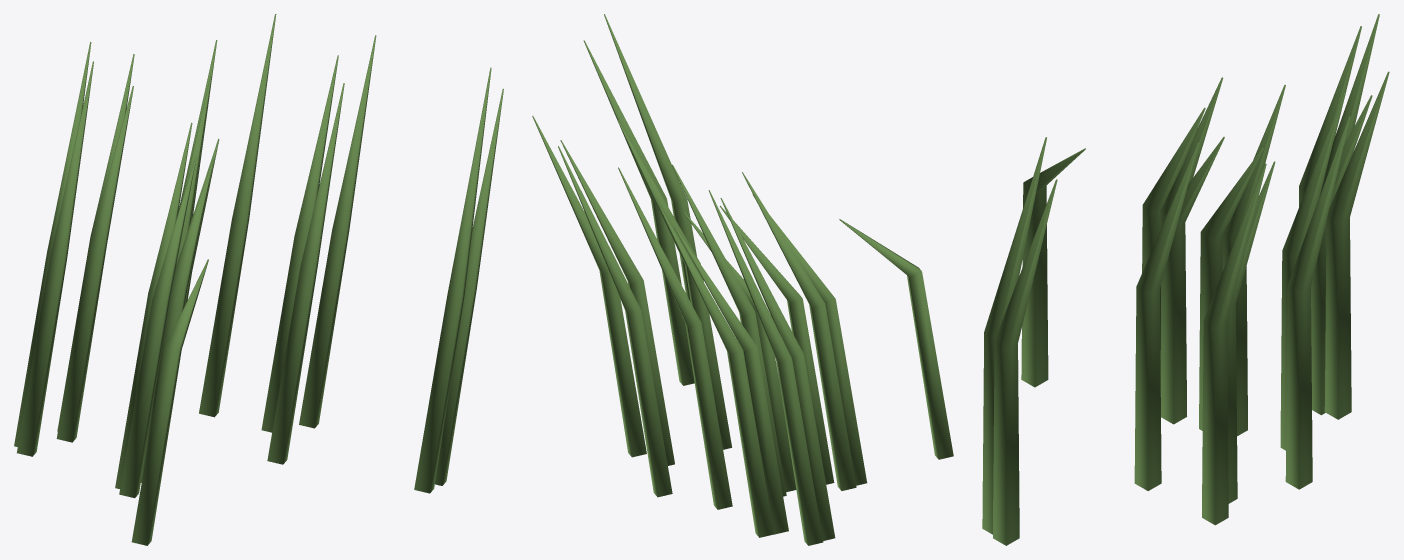
File: SM_Env_GrassTuft.fbx
3 views of the same model, side by side, from view 1: azimuth 30°, elevation 25°; view 2: azimuth 150°, elevation 25°; view 3: azimuth 270°, elevation 25° (orthographic). The views are drawn at different scales.
Visible parts, largest first — view 1: Grass_blade.004, Grass_blade.012, Grass_blade.009, Grass_blade.014, Grass_blade.005, Grass_blade.016, Grass_blade.010, Grass_blade, Grass_blade.011, Grass_blade.002, Grass_blade.007, Grass_blade.015 (+4 smaller); view 2: Grass_blade.003, Grass_blade.012, Grass_blade.006, Grass_blade.013, Grass_blade.007, Grass_blade.014, Grass_blade.016, Grass_blade, Grass_blade.009, Grass_blade.011, Grass_blade.002, Grass_blade.005 (+5 smaller); view 3: Grass_blade.012, Grass_blade.011, Grass_blade.014, Grass_blade.005, Grass_blade.013, Grass_blade.015, Grass_blade.004, Grass_blade, Grass_blade.001, Grass_blade.006, Grass_blade.008, Grass_blade.016 (+5 smaller).
Boxes of the visible parts, x1,y1,x2,y2 form: Grass_blade.004: (414,67,491,493); Grass_blade.012: (199,14,276,417); Grass_blade.009: (17,61,93,456); Grass_blade.014: (299,35,376,428); Grass_blade.005: (267,83,344,464); Grass_blade.016: (56,86,133,442); Grass_blade.010: (119,157,196,498); Grass_blade: (131,259,208,545); Grass_blade.011: (435,89,503,485); Grass_blade.002: (261,55,338,432); Grass_blade.007: (115,122,192,488); Grass_blade.015: (141,157,214,482); Grass_blade.003: (708,190,823,545); Grass_blade.012: (558,146,672,497); Grass_blade.006: (618,167,732,509); Grass_blade.013: (660,207,774,537); Grass_blade.007: (742,172,856,490); Grass_blade.014: (532,116,646,457); Grass_blade.016: (674,227,788,534); Grass_blade: (839,219,953,459); Grass_blade.009: (720,198,835,540); Grass_blade.011: (583,40,694,385); Grass_blade.002: (560,140,674,465); Grass_blade.005: (617,120,731,449); Grass_blade.012: (1285,116,1350,489); Grass_blade.011: (993,179,1057,545); Grass_blade.014: (1202,163,1266,525); Grass_blade.005: (1134,142,1199,490); Grass_blade.013: (1324,71,1389,419); Grass_blade.015: (1160,136,1224,424); Grass_blade.004: (982,137,1046,534); Grass_blade: (1021,148,1085,387); Grass_blade.001: (1222,85,1285,436); Grass_blade.006: (1280,92,1345,450); Grass_blade.008: (1199,148,1263,430); Grass_blade.016: (1311,95,1372,415).
Size of the model in its own units: 30.1 by 24.18 by 29.06.
